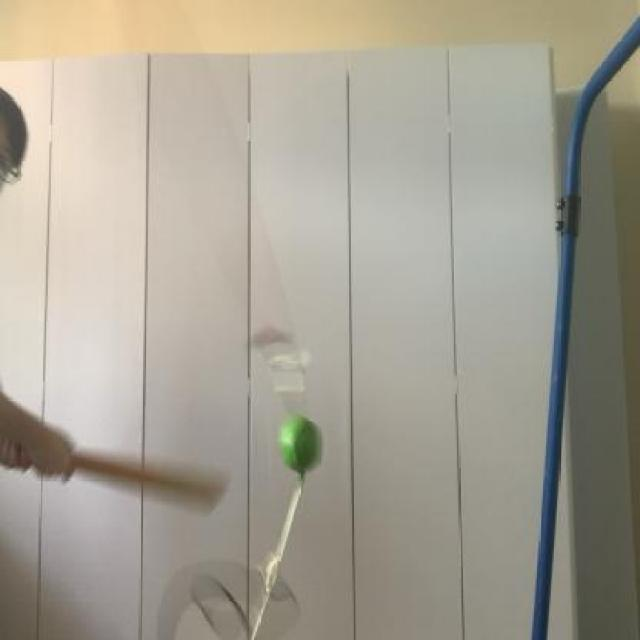baseball: (273, 410, 336, 482)
